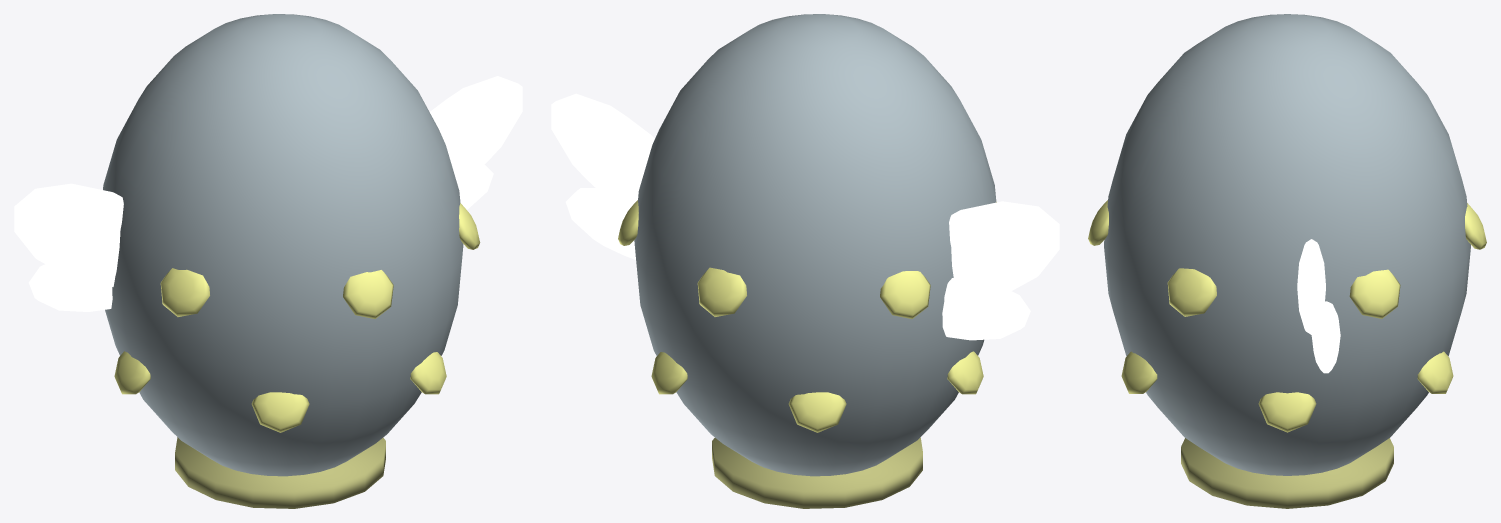
File: egg_storm_06.glb
3 renders of one model, left to right at view 1: azimuth 30°, elevation 25°; view 2: azimuth 150°, elevation 25°; view 3: azimuth 270°, elevation 25°, orthographic.
Parts seen in each view (by area): view 1: ball; view 2: ball; view 3: ball.
Boxes of the visible parts, box(x1,y1,x2,y2) form: ball: box(14, 14, 522, 508); ball: box(551, 14, 1059, 508); ball: box(1088, 14, 1486, 508).
Bounding box in the file's own units: 1.2 × 1 × 0.8252.
